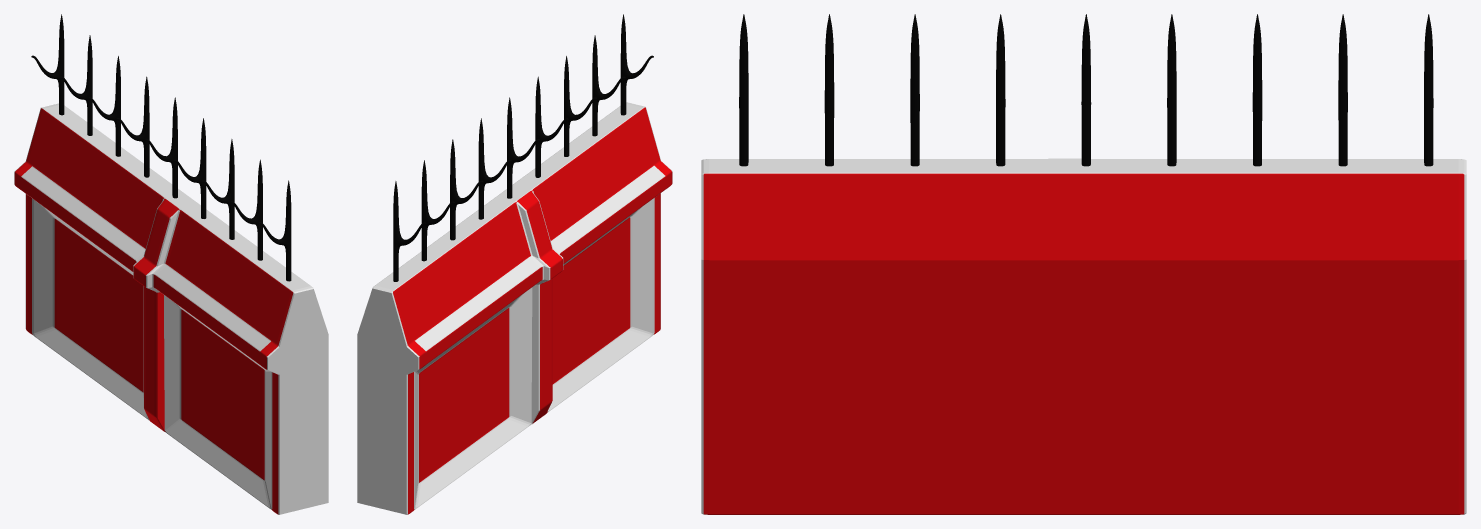
Rendered from walls.fbx.
3 views of the same model, side by side, from view 1: azimuth 30°, elevation 25°; view 2: azimuth 150°, elevation 25°; view 3: azimuth 270°, elevation 25° (orthographic). The views are drawn at different scales.
Visible parts, largest first — view 1: Cube.001; view 2: Cube.001; view 3: Cube.001.
Part boxes in pixels (left/top/right/bottom): Cube.001: left=14, top=14, right=328, bottom=514; Cube.001: left=357, top=14, right=672, bottom=514; Cube.001: left=701, top=14, right=1466, bottom=514.
Bounding box in the file's own units: 153 × 688 × 991.
